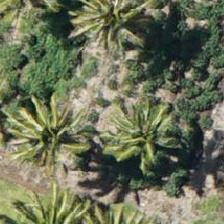coconut_tree: (96, 89, 186, 179), (3, 89, 93, 179), (68, 0, 158, 58)
